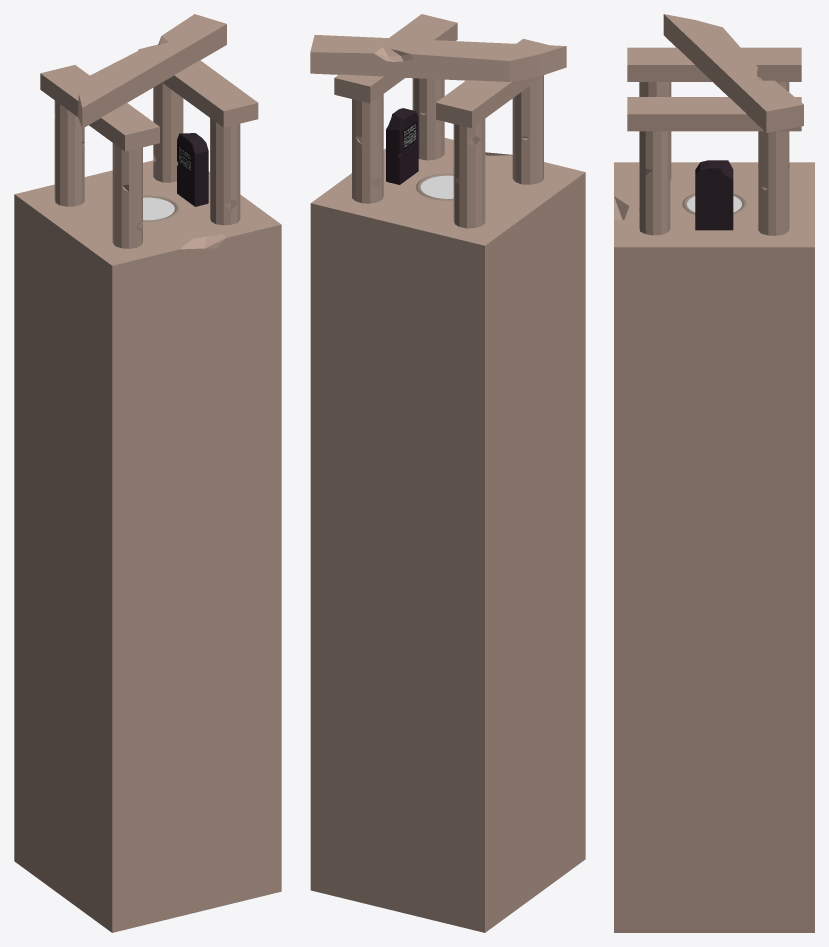
The model's file is PowerUp.fbx.
3 views of the same model, side by side, from view 1: azimuth 30°, elevation 25°; view 2: azimuth 150°, elevation 25°; view 3: azimuth 270°, elevation 25° (orthographic). The views are drawn at different scales.
Parts seen in each view (by area): view 1: Plataforma-L (2), Decoracion (2,1), Decoracion (2,3), Decoracion (2,2), Info.001, Marcador.(2); view 2: Plataforma-L (2), Decoracion (2,1), Decoracion (2,2), Decoracion (2,3), Info.001, Marcador.(2); view 3: Plataforma-L (2), Decoracion (2,3), Decoracion (2,1), Decoracion (2,2), Info.001.
Part boxes in pixels (left/top/right/bottom): Plataforma-L (2): left=14, top=160, right=281, bottom=932; Decoracion (2,1): left=54, top=83, right=240, bottom=248; Decoracion (2,3): left=40, top=44, right=258, bottom=151; Decoracion (2,2): left=77, top=14, right=226, bottom=128; Info.001: left=177, top=133, right=208, bottom=206; Marcador.(2): left=143, top=197, right=174, bottom=220; Plataforma-L (2): left=310, top=138, right=585, bottom=932; Decoracion (2,1): left=352, top=76, right=543, bottom=228; Decoracion (2,2): left=310, top=35, right=566, bottom=81; Decoracion (2,3): left=334, top=14, right=548, bottom=128; Info.001: left=386, top=108, right=418, bottom=184; Marcador.(2): left=420, top=175, right=453, bottom=198; Plataforma-L (2): left=614, top=162, right=814, bottom=932; Decoracion (2,3): left=627, top=47, right=801, bottom=131; Decoracion (2,1): left=639, top=82, right=789, bottom=235; Decoracion (2,2): left=663, top=14, right=803, bottom=132; Info.001: left=695, top=160, right=733, bottom=230.
Bounding box in the file's own units: 2032 × 8063 × 1767.
